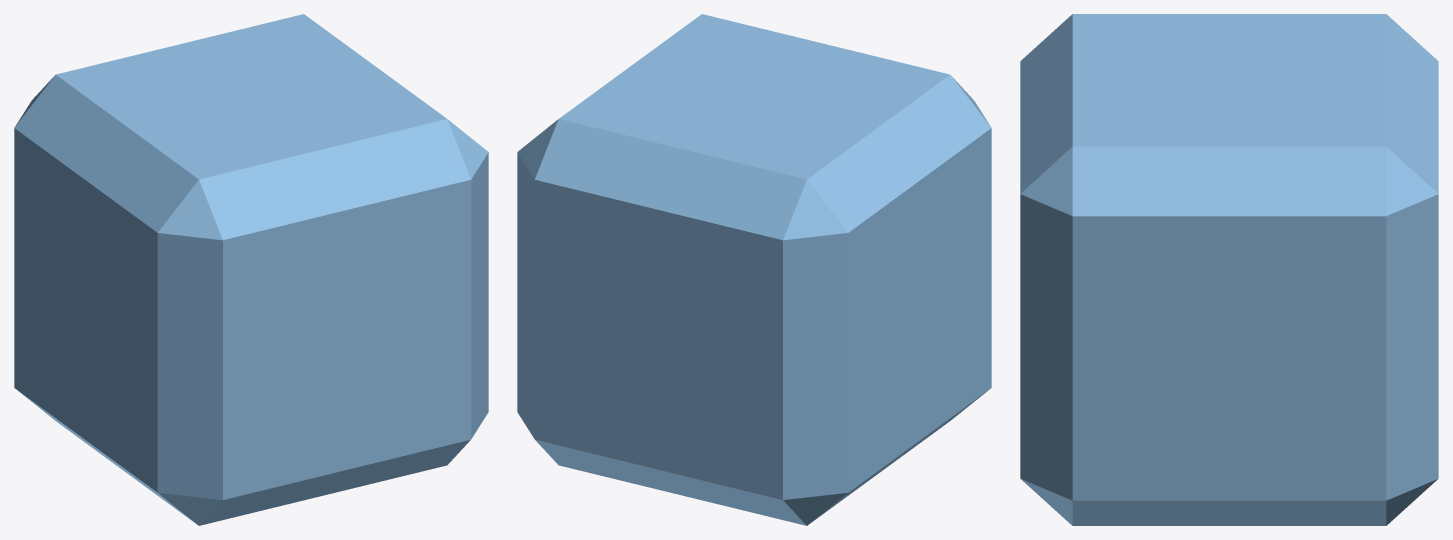
Rendered from Blue.fbx.
3 renders of one model, left to right at view 1: azimuth 30°, elevation 25°; view 2: azimuth 150°, elevation 25°; view 3: azimuth 270°, elevation 25°, orthographic. The views are drawn at different scales.
Parts seen in each view (by area): view 1: Blue; view 2: Blue; view 3: Blue.
Boxes of the visible parts, x1=… form: Blue: x1=14, y1=14, x2=488, y2=525; Blue: x1=517, y1=14, x2=991, y2=525; Blue: x1=1020, y1=14, x2=1438, y2=525.
Bounding box in the file's own units: 200 × 200 × 200.
